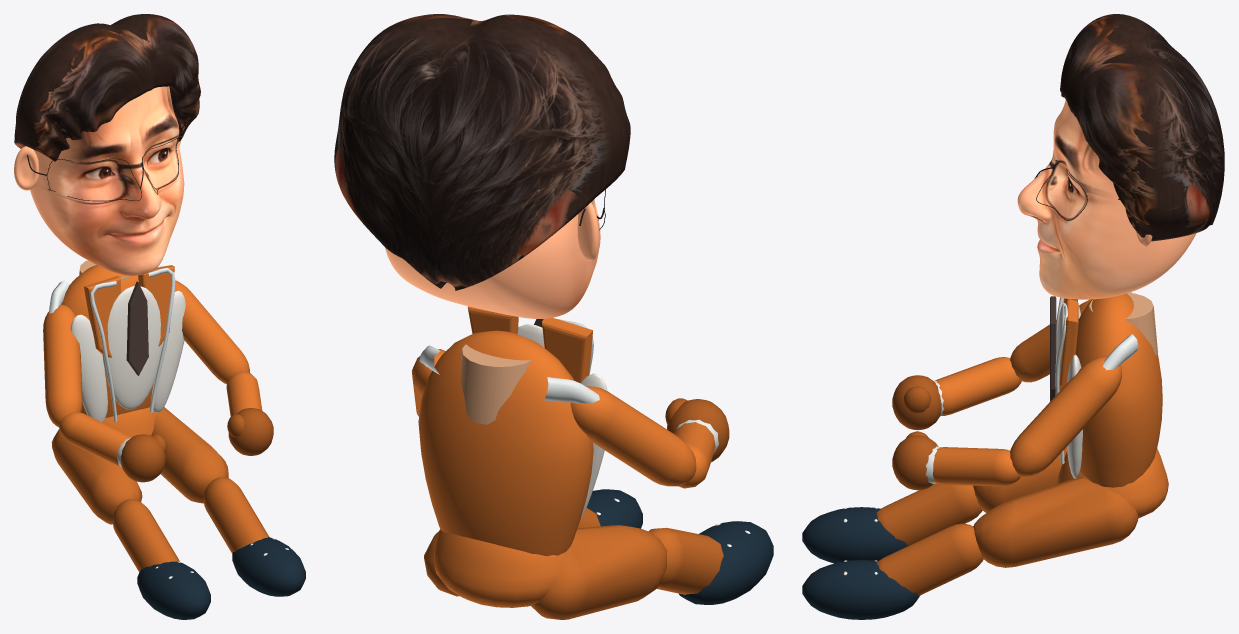
The model's file is academic.glb.
The picture shows the model from 3 angles, left to right: view 1: azimuth 30°, elevation 25°; view 2: azimuth 150°, elevation 25°; view 3: azimuth 270°, elevation 25°; orthographic projection. The views are drawn at different scales.
Parts seen in each view (by area): view 1: Driver_academic, PortraitVolumeFace, PortraitHair_academic, UpperArm_L, UpperArm_R, Forearm_L, Hand_L, Hand_R, Forearm_R, PortraitEar_-1; view 2: Driver_academic, PortraitHair_academic, PortraitVolumeFace, UpperArm_L, Hand_L, Forearm_L, PortraitEar_-1, UpperArm_R; view 3: Driver_academic, PortraitHair_academic, PortraitVolumeFace, UpperArm_R, Forearm_R, Forearm_L, Hand_L, Hand_R, UpperArm_L.
Part boxes in pixels (x1,y1,x2,y2): Driver_academic: [49, 260, 305, 619]; PortraitVolumeFace: [30, 86, 184, 275]; PortraitHair_academic: [14, 14, 200, 161]; UpperArm_L: [43, 304, 82, 427]; UpperArm_R: [174, 280, 249, 384]; Forearm_L: [59, 412, 131, 467]; Hand_L: [120, 434, 167, 482]; Hand_R: [227, 408, 273, 455]; Forearm_R: [226, 371, 262, 416]; PortraitEar_-1: [14, 146, 38, 190]; Driver_academic: [418, 306, 773, 619]; PortraitHair_academic: [334, 14, 630, 290]; PortraitVolumeFace: [385, 199, 600, 318]; UpperArm_L: [570, 386, 696, 486]; Hand_L: [665, 398, 729, 462]; Forearm_L: [673, 419, 718, 488]; PortraitEar_-1: [577, 202, 599, 260]; UpperArm_R: [412, 349, 445, 416]; Driver_academic: [802, 292, 1168, 619]; PortraitHair_academic: [1060, 14, 1224, 241]; PortraitVolumeFace: [1017, 100, 1196, 299]; UpperArm_R: [1010, 356, 1121, 476]; Forearm_R: [925, 446, 1020, 486]; Forearm_L: [933, 357, 1021, 416]; Hand_L: [892, 375, 941, 430]; Hand_R: [892, 431, 938, 490]; UpperArm_L: [1010, 299, 1091, 382].
Size of the model in its own units: 1.23 by 2.87 by 1.96.
Materials: 12 (2 with a texture image).
